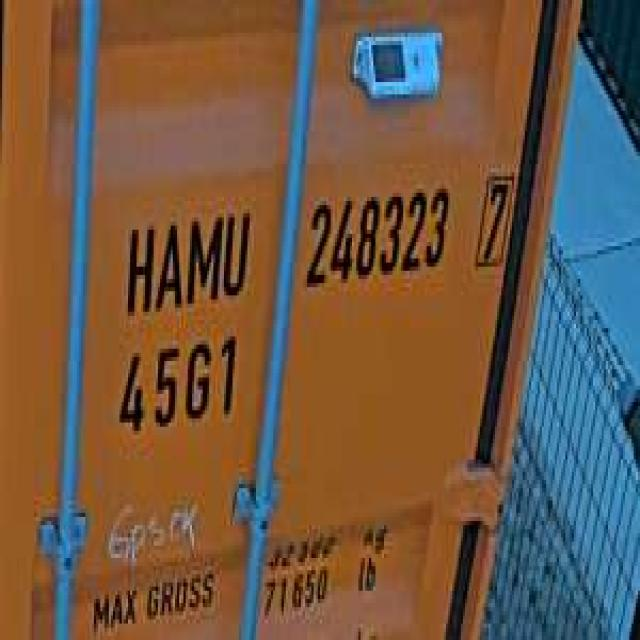dv: (472, 156, 516, 279)
owner: (119, 197, 254, 316)
serial: (301, 172, 452, 287)
size: (111, 324, 241, 439)
